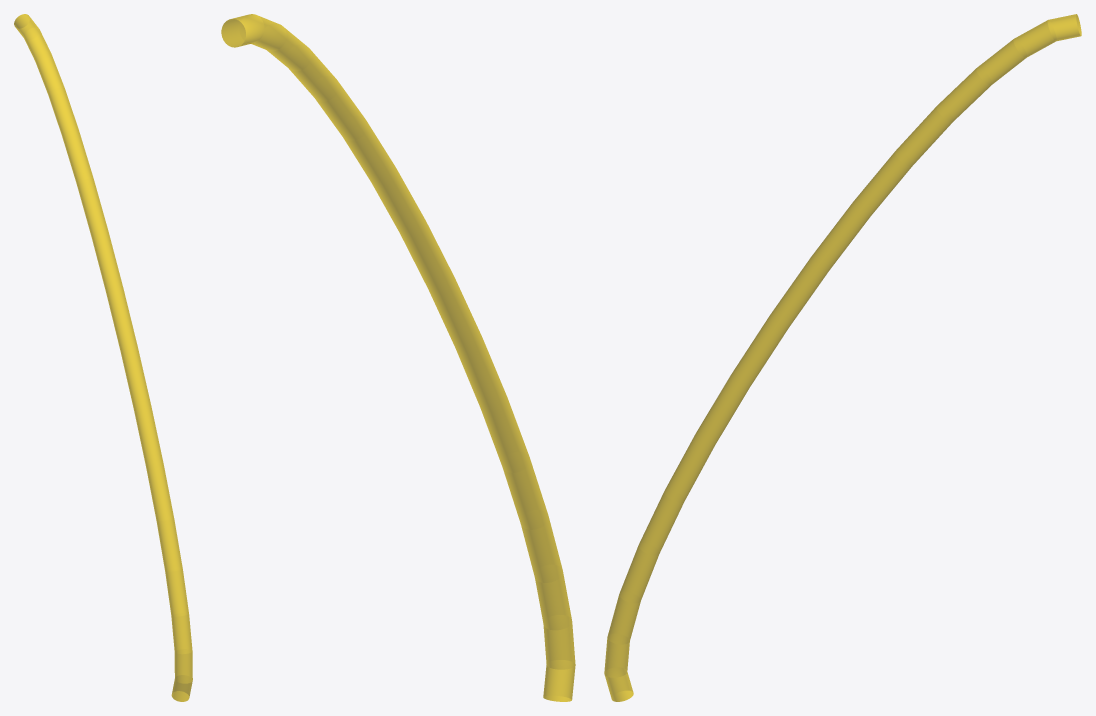
Rendered from Event_40932208_track_12.fbx.
3 renders of one model, left to right at view 1: azimuth 30°, elevation 25°; view 2: azimuth 150°, elevation 25°; view 3: azimuth 270°, elevation 25°, orthographic. The views are drawn at different scales.
Parts seen in each view (by area): view 1: Model; view 2: Model; view 3: Model.
Part boxes in pixels (x1,y1,x2,y2): Model: (14, 14, 192, 701); Model: (221, 14, 575, 701); Model: (604, 14, 1081, 701).
Bounding box in the file's own units: 0.0941 × 1.35 × 0.8356.
